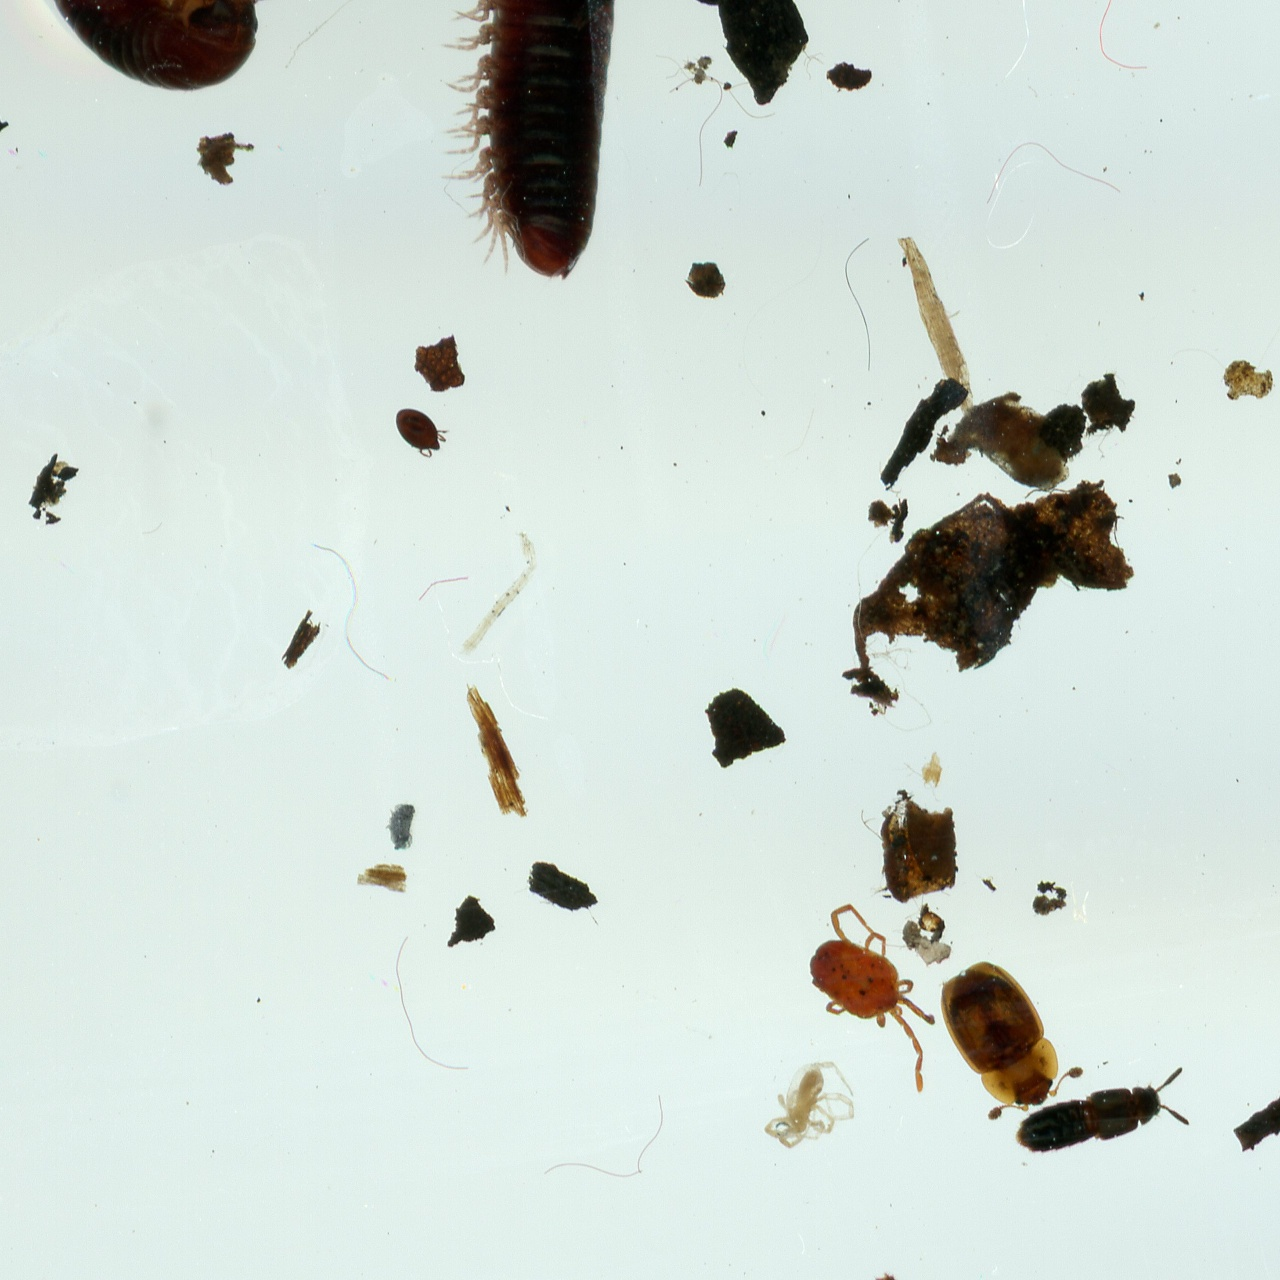arthropod: (11, 0, 628, 286), (771, 891, 989, 1098), (918, 935, 1091, 1132), (1000, 1064, 1198, 1173), (763, 1058, 858, 1152), (382, 394, 457, 465), (383, 801, 416, 851)
